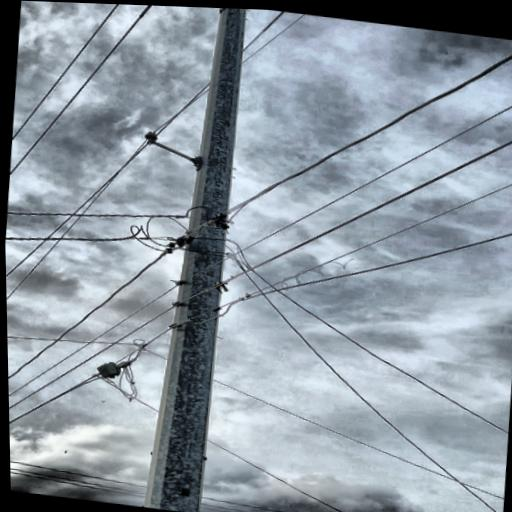pole: (110, 4, 266, 512)
